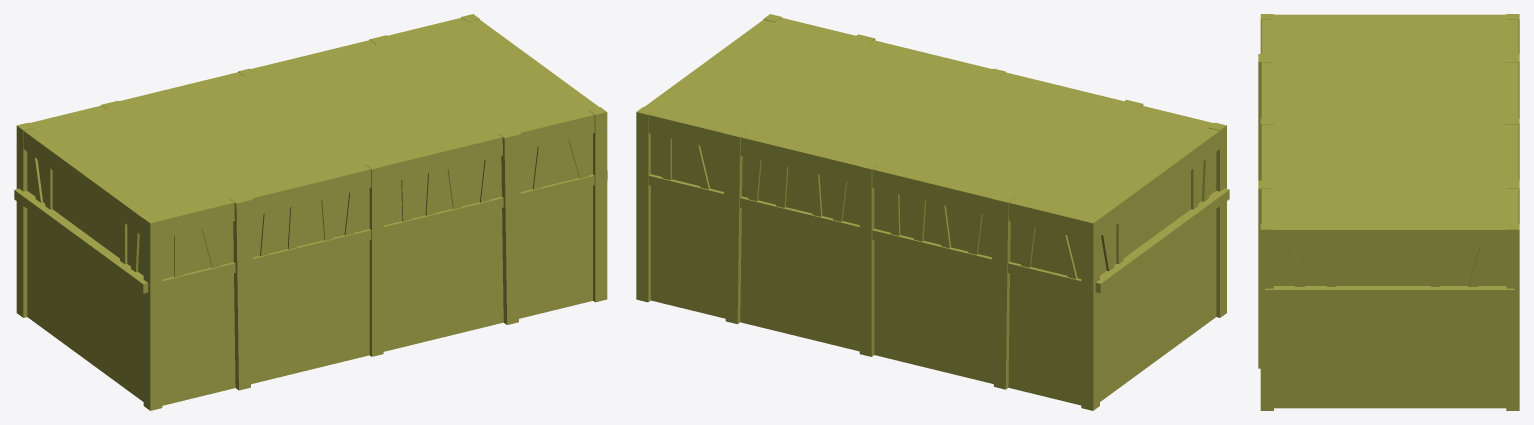
File: House2.fbx
The picture shows the model from 3 angles, left to right: view 1: azimuth 30°, elevation 25°; view 2: azimuth 150°, elevation 25°; view 3: azimuth 270°, elevation 25°; orthographic projection. The views are drawn at different scales.
Parts seen in each view (by area): view 1: House2; view 2: House2; view 3: House2.
Boxes of the visible parts, bbox=[...] form: House2: bbox=[14, 14, 607, 410]; House2: bbox=[636, 14, 1229, 410]; House2: bbox=[1258, 14, 1519, 410].
Bounding box in the file's own units: 1040 × 401 × 524.
